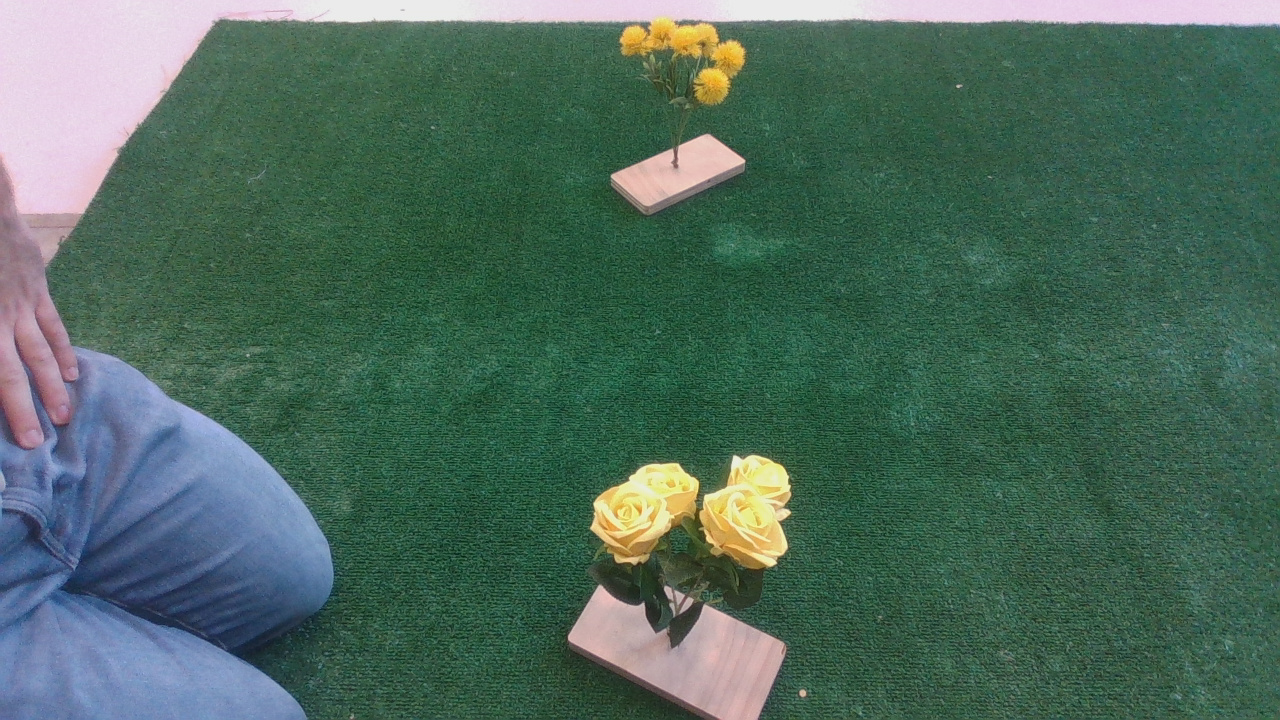dandelion: (615, 27, 754, 126)
rose: (560, 451, 813, 594)
